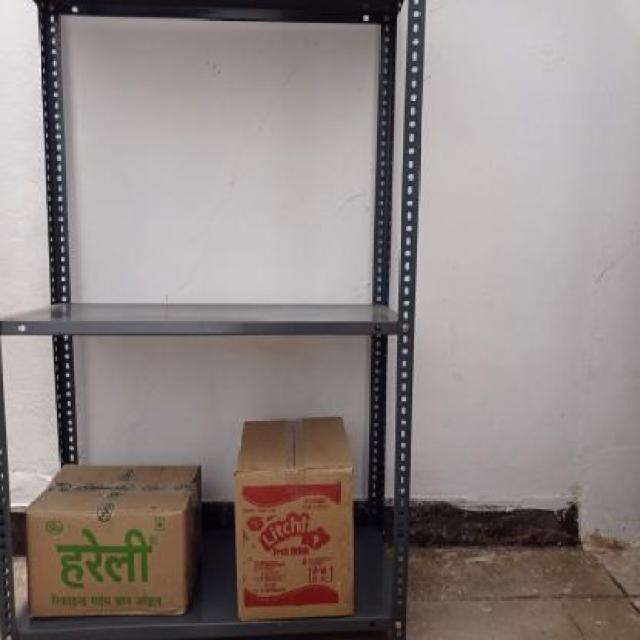box: (233, 469, 355, 617), (26, 509, 189, 614)
